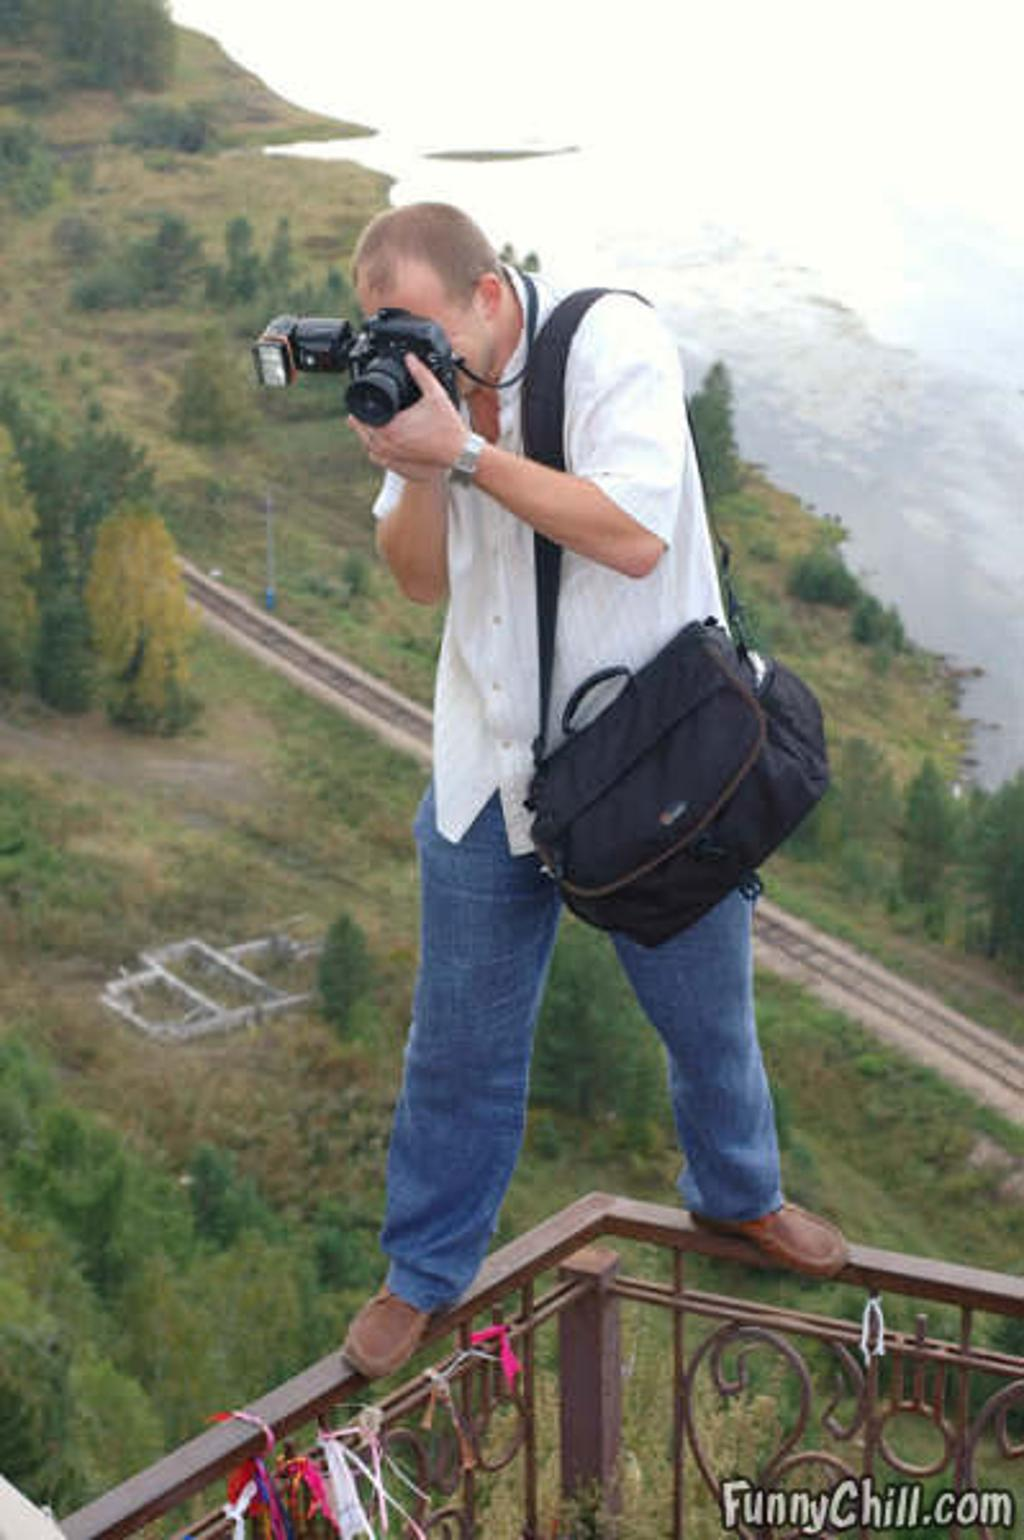face: (358, 268, 491, 394)
